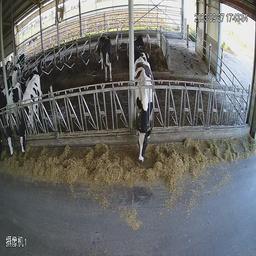cow: (134, 55, 161, 167), (20, 70, 47, 157), (3, 77, 22, 166), (92, 27, 117, 79), (134, 26, 156, 63)
